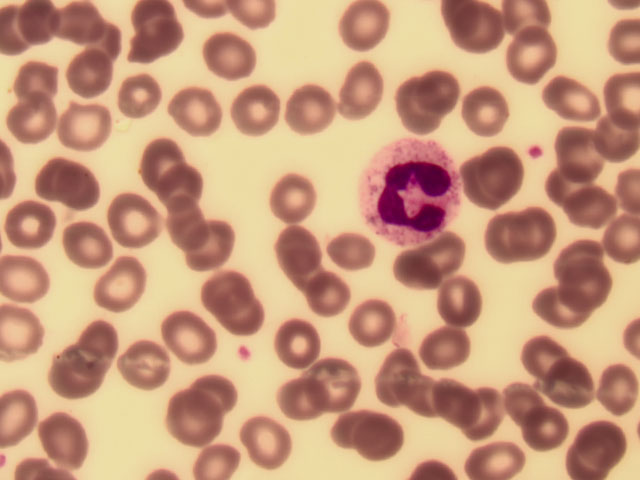Platelets: (527, 140, 548, 165), (231, 341, 252, 365)
RBC: (69, 50, 120, 100), (8, 62, 59, 112), (8, 95, 59, 145), (53, 102, 104, 152), (40, 156, 91, 206), (4, 204, 55, 254), (3, 255, 54, 305), (66, 221, 117, 271), (111, 191, 162, 241), (98, 257, 149, 307), (73, 318, 124, 368), (54, 345, 105, 395), (122, 343, 173, 393), (164, 318, 215, 368), (204, 268, 255, 318), (223, 289, 274, 339), (190, 221, 241, 271), (159, 195, 210, 245), (155, 165, 206, 215), (143, 136, 194, 186), (160, 90, 211, 140), (105, 67, 156, 117), (129, 20, 180, 70), (211, 33, 262, 83), (234, 84, 285, 134), (284, 81, 335, 131), (339, 61, 390, 111), (338, 1, 389, 51), (422, 67, 473, 117), (392, 80, 443, 130), (449, 86, 500, 136), (501, 27, 552, 77), (548, 79, 599, 129), (478, 147, 529, 197), (461, 163, 512, 213), (484, 216, 535, 266), (517, 208, 568, 258), (427, 229, 478, 279), (383, 249, 434, 299), (323, 231, 374, 281), (265, 173, 316, 223), (274, 225, 325, 275), (300, 269, 351, 319), (344, 296, 395, 346), (273, 316, 324, 366), (314, 357, 365, 407), (274, 374, 325, 424), (241, 419, 292, 469), (192, 430, 243, 480), (162, 391, 213, 441), (196, 370, 247, 420), (43, 413, 94, 463), (344, 408, 395, 458), (371, 355, 422, 405), (416, 322, 467, 372), (435, 283, 486, 333), (531, 278, 582, 328), (571, 259, 622, 309), (562, 239, 613, 289), (589, 216, 640, 266), (565, 182, 616, 232), (551, 164, 602, 214), (550, 127, 601, 177), (584, 112, 635, 162), (589, 68, 640, 118), (540, 354, 591, 404), (529, 338, 580, 388), (589, 368, 640, 418), (578, 428, 629, 478), (510, 403, 561, 453), (496, 385, 547, 435), (471, 389, 522, 439), (431, 382, 482, 432), (409, 373, 460, 423), (471, 430, 522, 480), (16, 1, 67, 50), (55, 1, 106, 50), (457, 1, 508, 50), (507, 1, 558, 50)
WBC: (358, 136, 460, 245)
